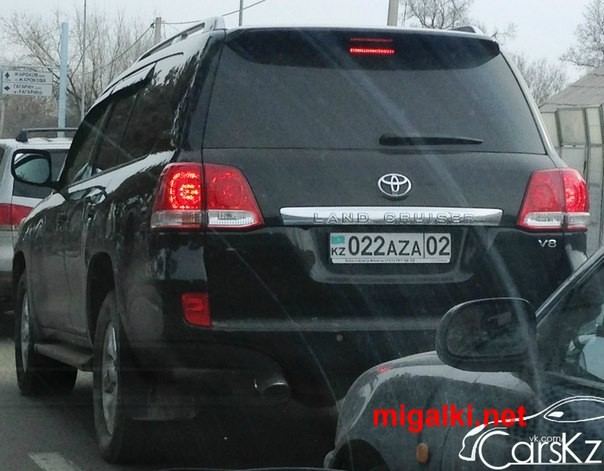license_plate: (328, 232, 452, 265)
